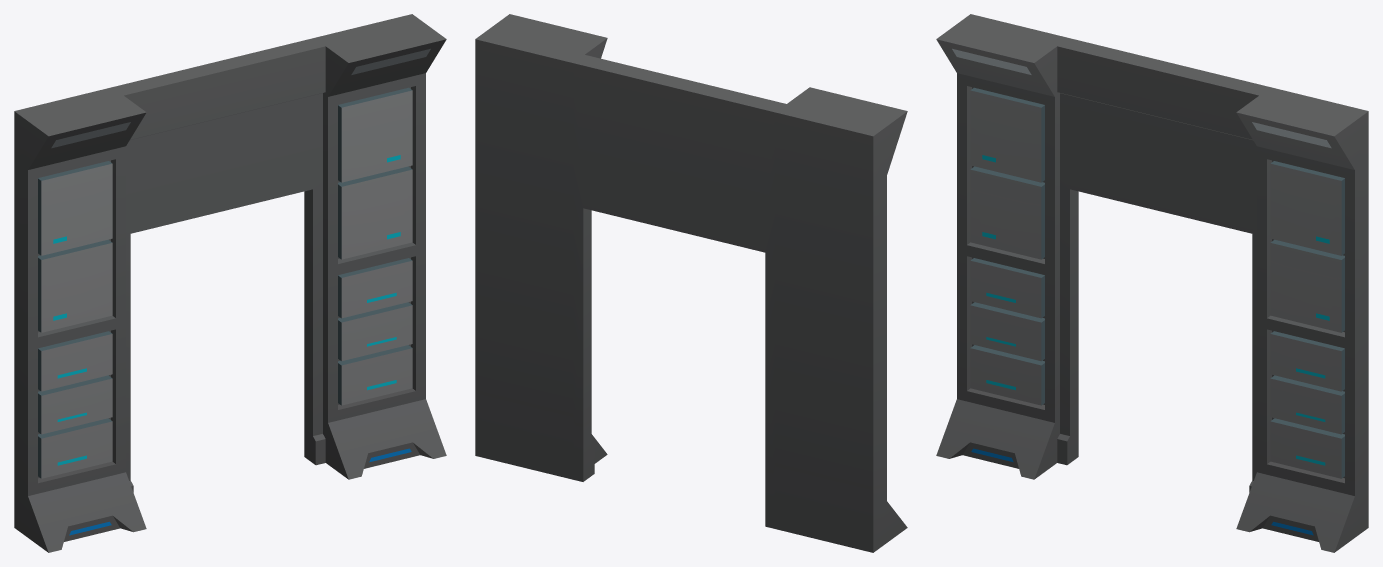
File: Wall_type_B_073.fbx
The picture shows the model from 3 angles, left to right: view 1: azimuth 30°, elevation 25°; view 2: azimuth 150°, elevation 25°; view 3: azimuth 330°, elevation 25°; orthographic projection.
Visible parts, largest first — view 1: Wall_type_B_073; view 2: Wall_type_B_073; view 3: Wall_type_B_073.
Part boxes in pixels (box(x1,y1,x2,y2)): Wall_type_B_073: box(14, 14, 446, 552); Wall_type_B_073: box(475, 14, 907, 552); Wall_type_B_073: box(936, 14, 1368, 552).
Bounding box in the file's own units: 400 × 60 × 400.
